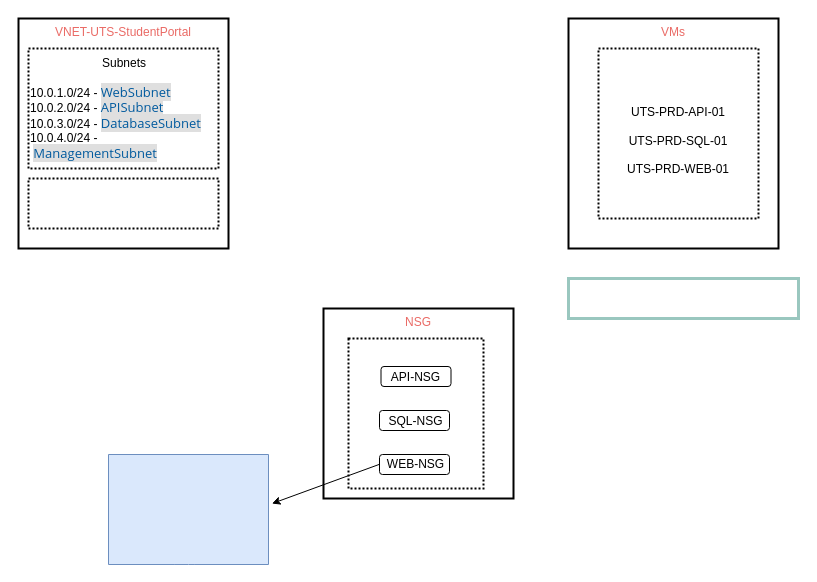
The diagram is 817 pixels wide and 582 high, and some of its shapes have lost their labels. The centre of each missing label's shape, as x and y in pixels:
10.0.10.0 / 24 - AzureBastionSubnet: the point at 123,203
Azure Bastion - UTS-PRD-BASTION-01: the point at 683,298
Rules Allow : 80/443 Deny : RDP-temporary Rule: the point at 188,509
